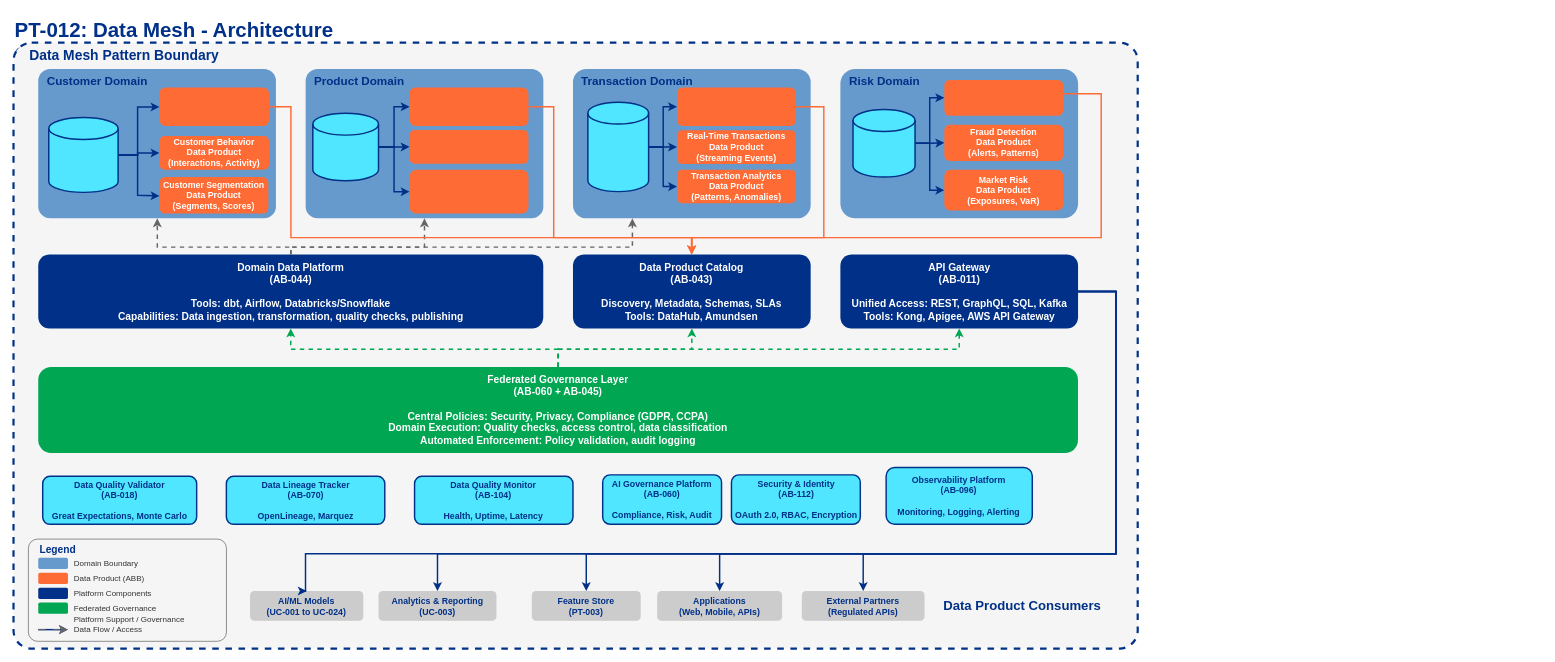
This 1555x662 diagram has some shape labels left out. Here are the shapes that lost their labels. From the top down, the centre of each, then its label:
At (214,106): "Customer 360 Data Product (Profile, Preferences)".
At (468,106): "Product Catalog Data Product (Features, Pricing)".
At (736,106): "Transaction History Data Product (Payments, Transfers)".
At (1003,97): "Credit Risk Data Product (Scores, Ratings)".
At (83,154): "Customer Data Sources (CRM, Core Banking)".
At (345,146): "Product Data Sources (Product DB)".
At (468,146): "Product Performance Data Product (Sales, Metrics)".
At (618,146): "Transaction Data Sources (Payment Systems)".
At (883,142): "Risk Data Sources (Risk Systems)".
At (468,191): "Product Recommendations Data Product (Next Best Offer)".
